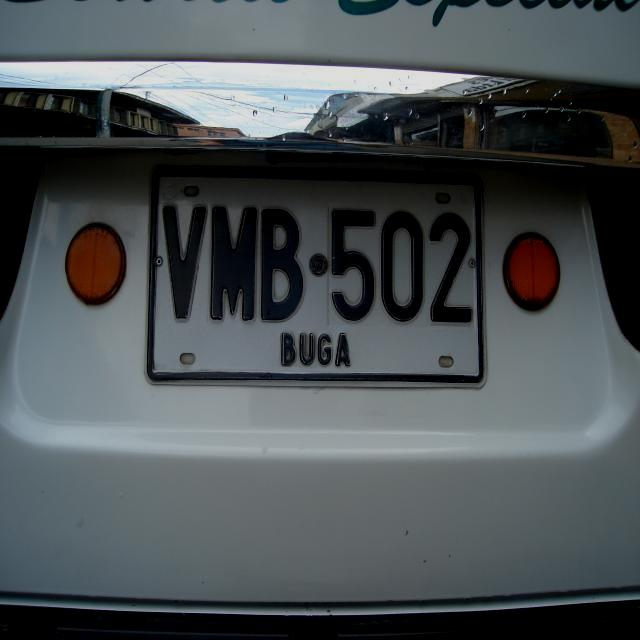placa: (142, 158, 489, 394)
